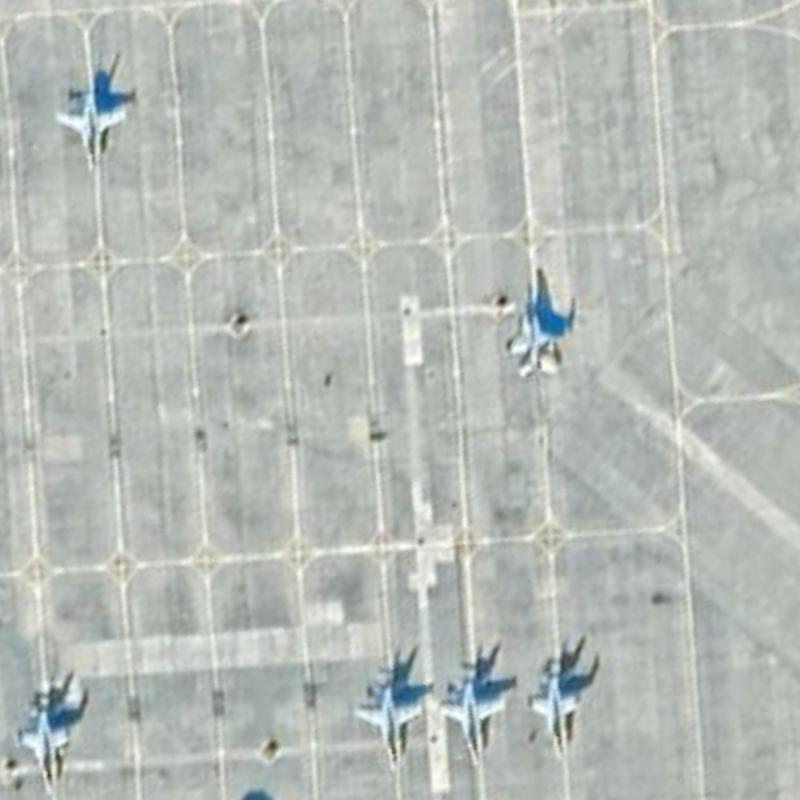A16: (45, 77, 135, 184), (347, 665, 432, 778), (6, 676, 82, 799), (497, 260, 571, 383), (438, 663, 514, 774), (521, 650, 589, 765)
